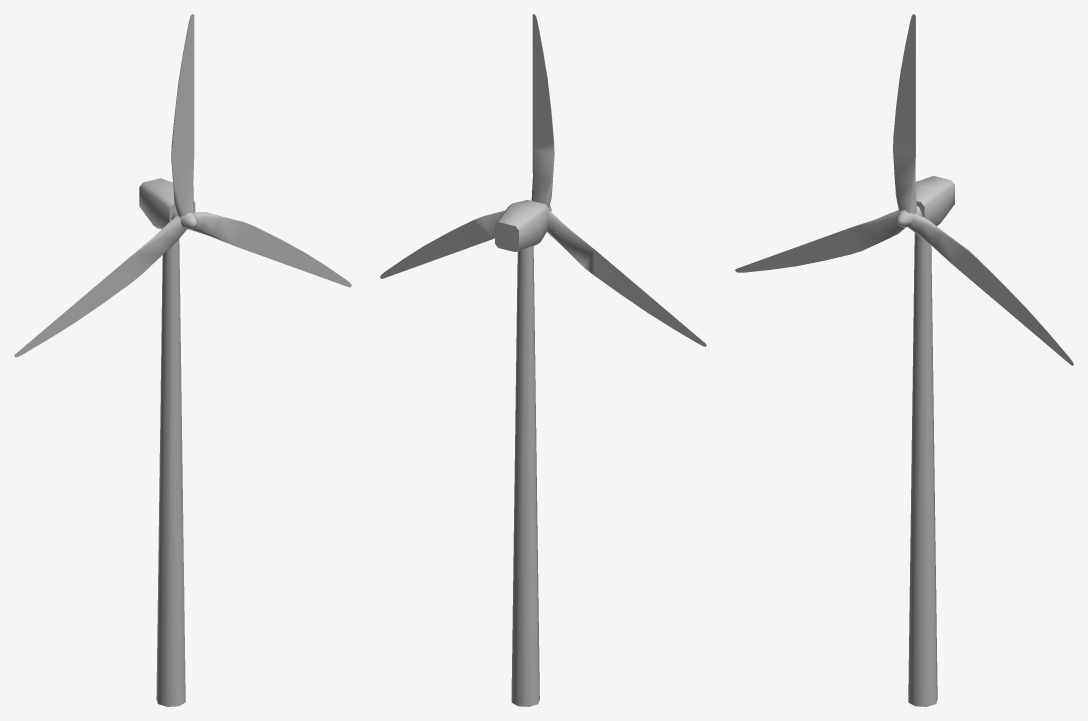
Rendered from Windmill_01.fbx.
3 renders of one model, left to right at view 1: azimuth 30°, elevation 25°; view 2: azimuth 150°, elevation 25°; view 3: azimuth 330°, elevation 25°, orthographic. The views are drawn at different scales.
Visible parts, largest first — view 1: Windmill_01, Windmill_01_Propeller; view 2: Windmill_01, Windmill_01_Propeller; view 3: Windmill_01, Windmill_01_Propeller.
Part boxes in pixels (box(x1,y1,x2,y2)): Windmill_01: box(139, 178, 197, 706); Windmill_01_Propeller: box(14, 14, 351, 357); Windmill_01: box(495, 200, 551, 706); Windmill_01_Propeller: box(380, 14, 706, 346); Windmill_01: box(896, 176, 954, 706); Windmill_01_Propeller: box(735, 14, 1073, 365).
Size of the model in its own units: 19.36 by 38.21 by 4.32.
